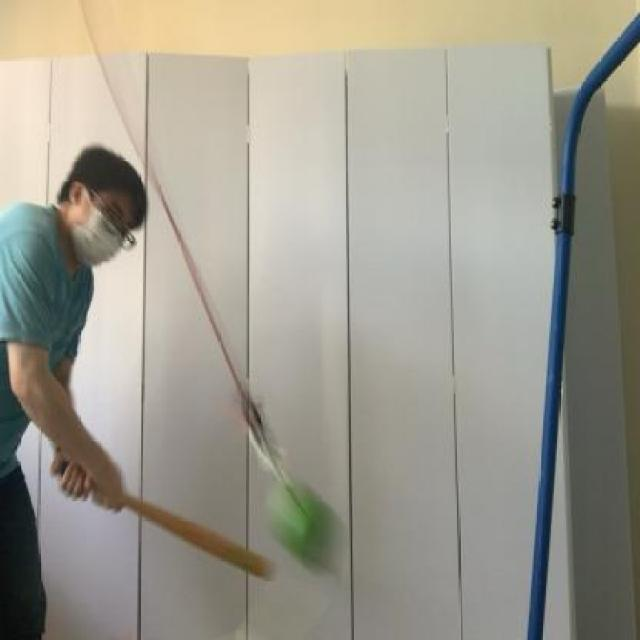baseball: (262, 474, 348, 580)
